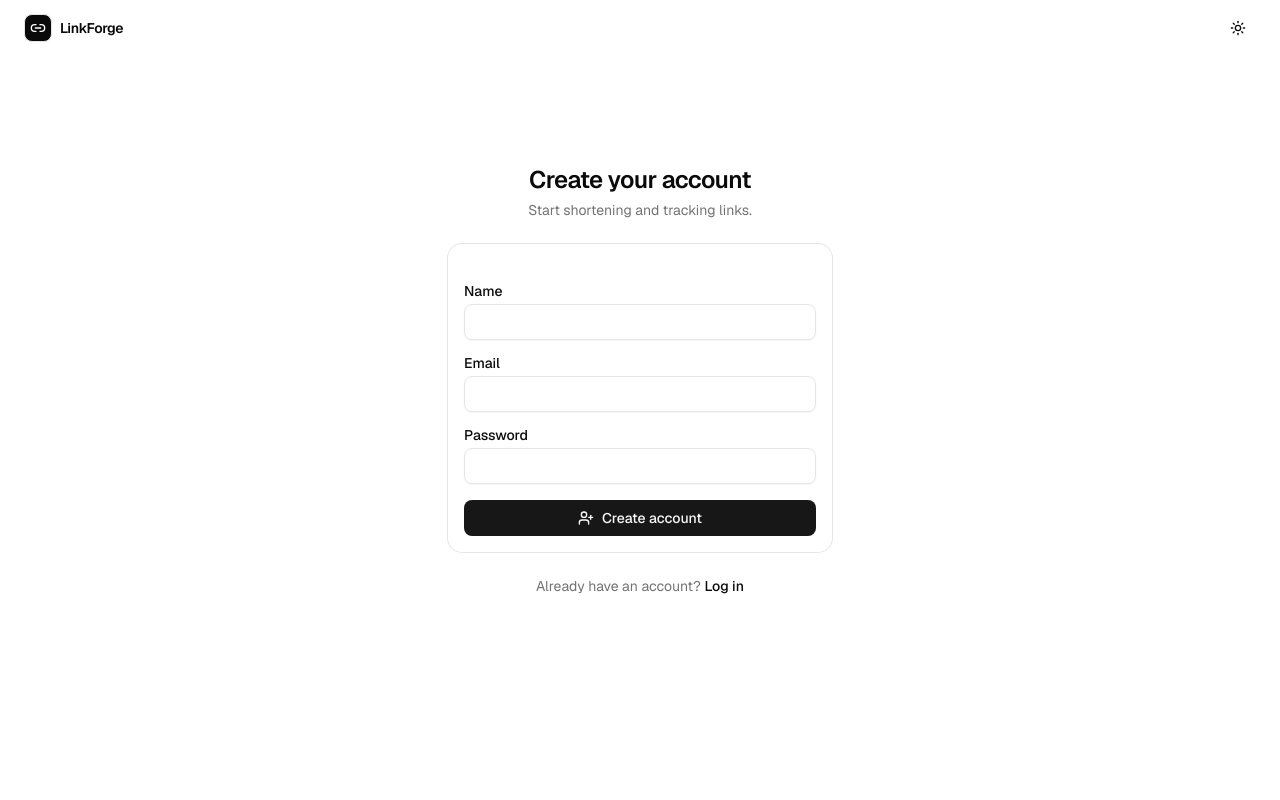
Test: RegisterPage › attaches EMAIL_TAKEN to the email field specifically
In the field labelled "Name": (640, 322) x1=464 y1=304 x2=816 y2=340, type "Ada"
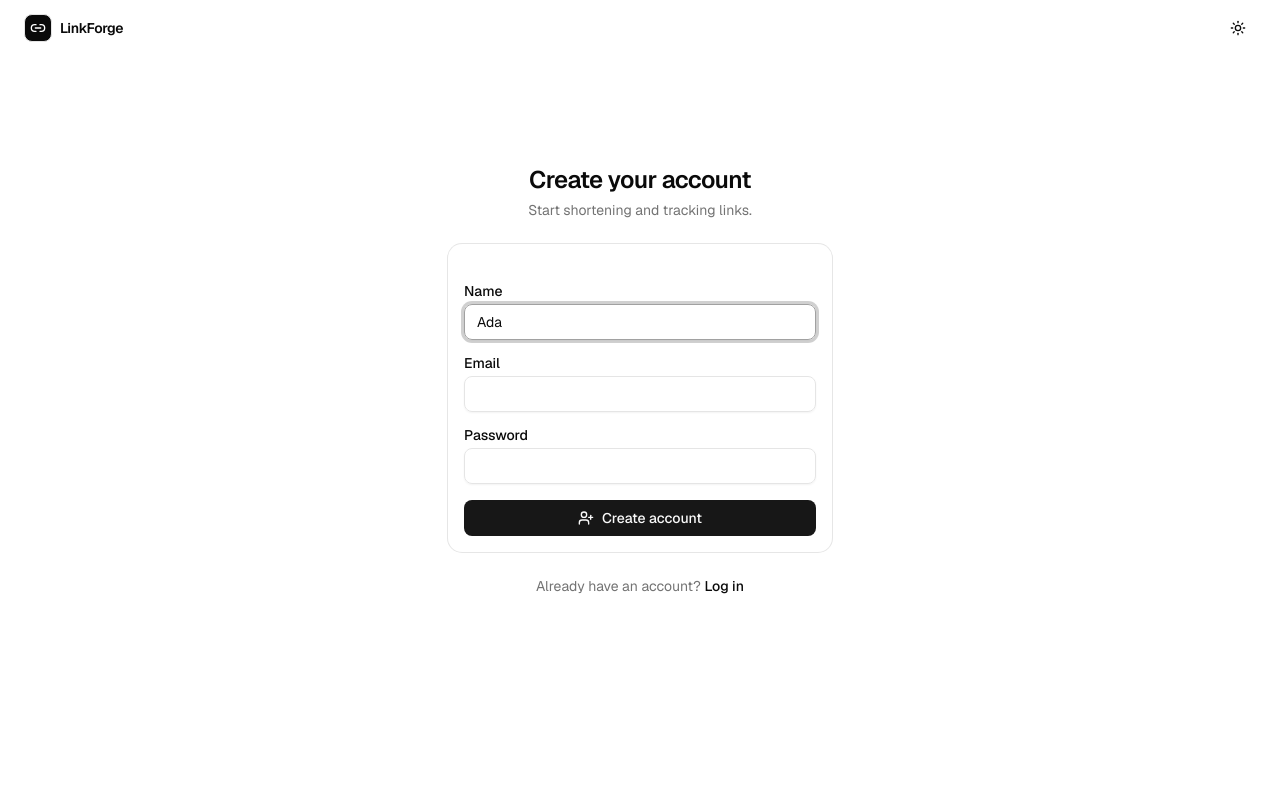
In the field labelled "Email": (640, 394) x1=464 y1=376 x2=816 y2=412, type "ada@example.com"
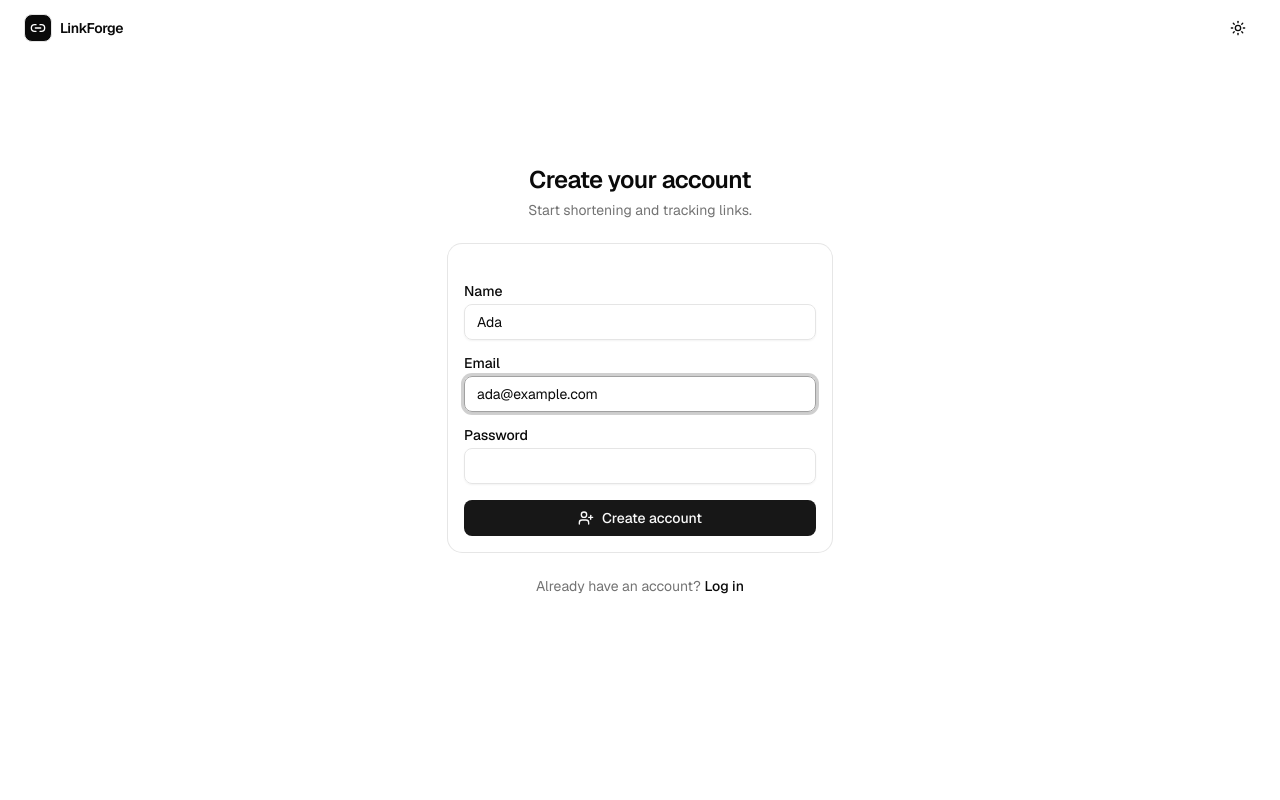
In the password field labelled "Password": (640, 466) x1=464 y1=448 x2=816 y2=484, type "a-strong-password"
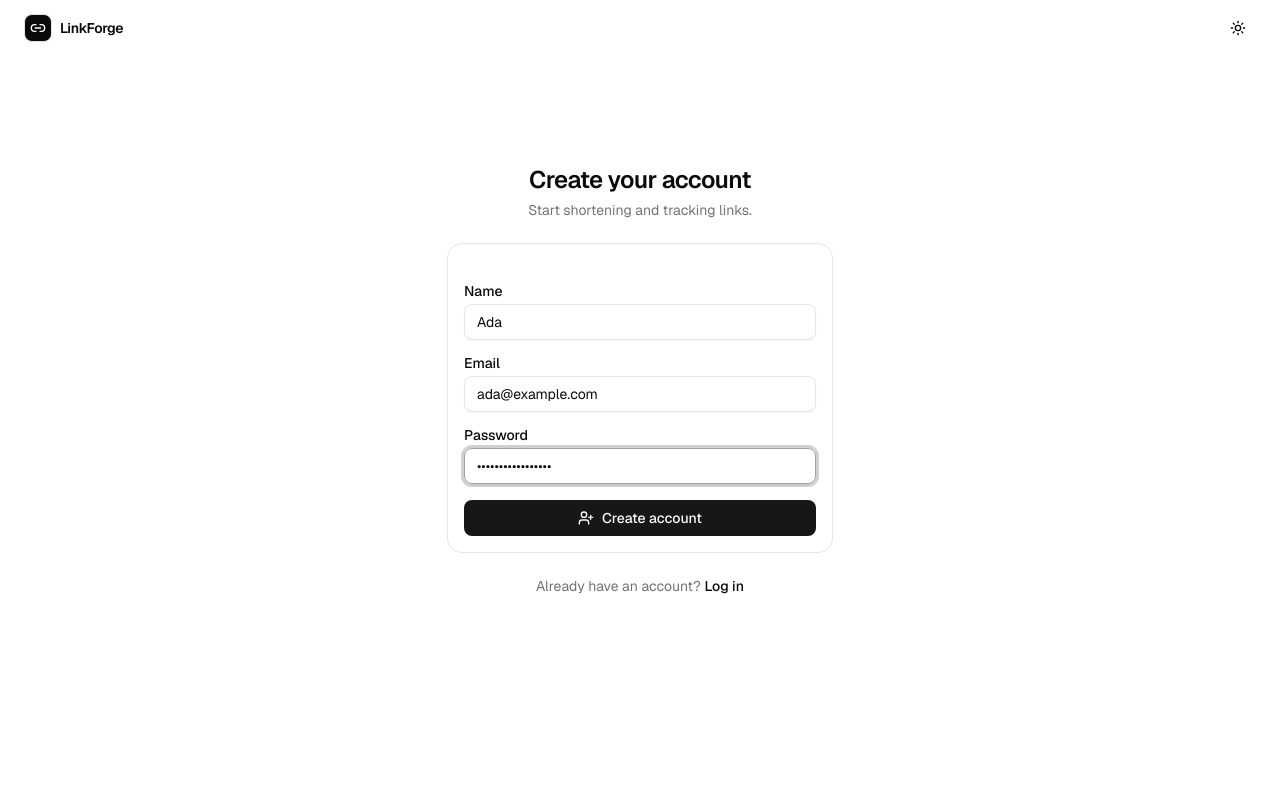
Click the button "Create account": (640, 518) x1=464 y1=500 x2=816 y2=536
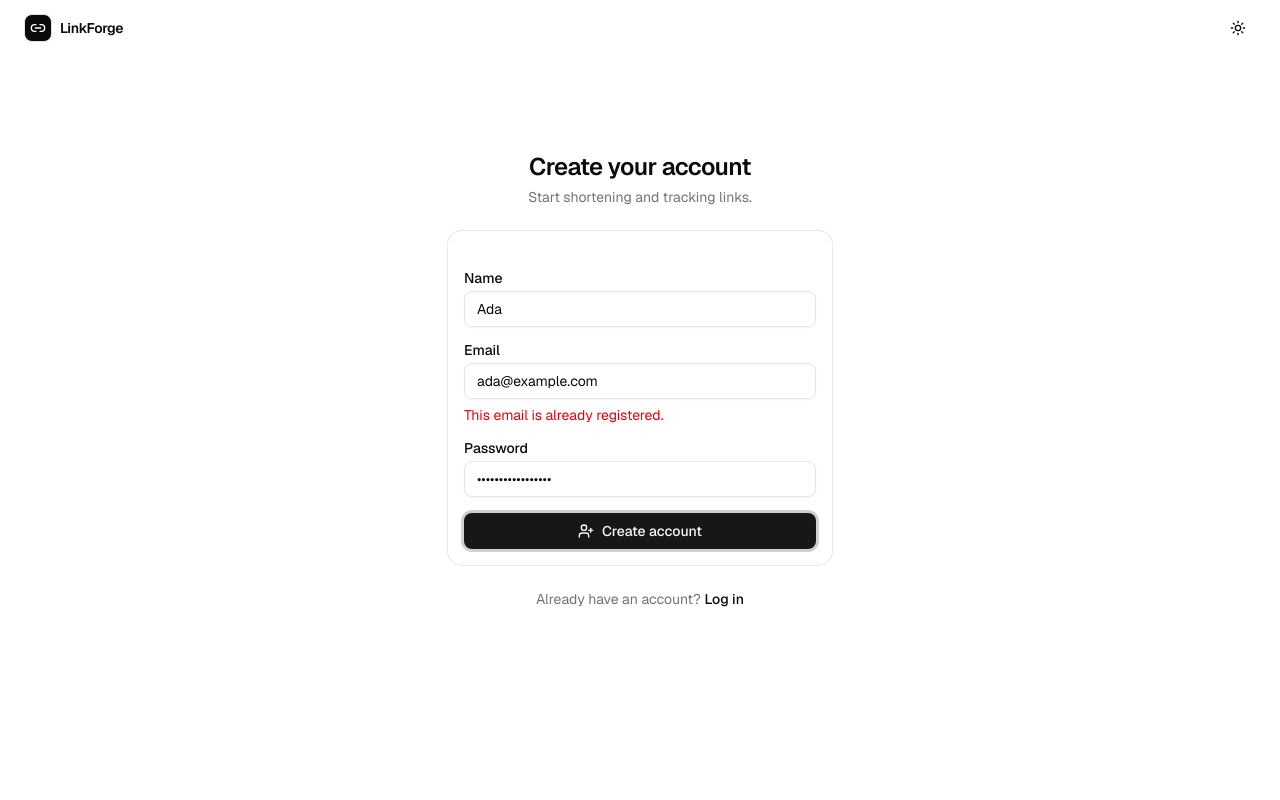
Expected: the text "This email is already registered." is shown, x1=464 y1=406 x2=664 y2=424
